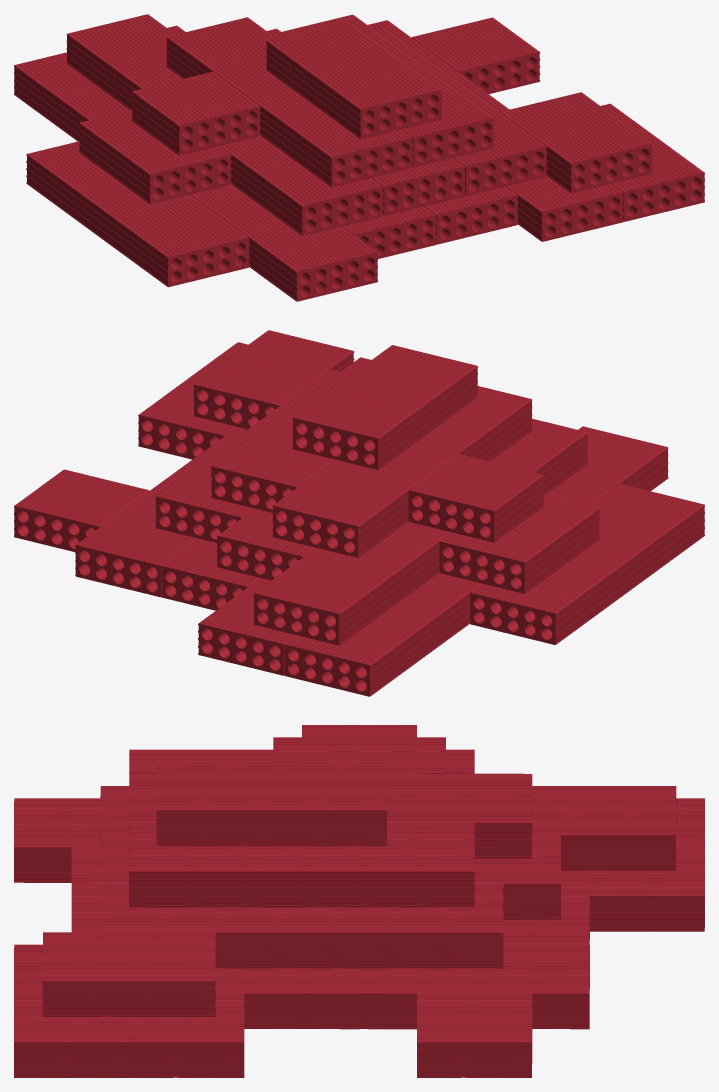
3 views of the same model, one above another, from view 1: azimuth 30°, elevation 25°; view 2: azimuth 150°, elevation 25°; view 3: azimuth 270°, elevation 25° (orthographic). The views are drawn at different scales.
Visible parts, largest first — view 1: barrière sécurité chantier.dwg#2 (×51); view 2: barrière sécurité chantier.dwg#2 (×51); view 3: barrière sécurité chantier.dwg#2 (×62).
Part boxes in pixels (bbox=[...]): barrière sécurité chantier.dwg#2 (×51): bbox=[14, 14, 704, 301]; barrière sécurité chantier.dwg#2 (×51): bbox=[14, 330, 704, 696]; barrière sécurité chantier.dwg#2 (×62): bbox=[14, 725, 704, 1077].
Size of the model in its own units: 2.99 by 0.7 by 2.99.
